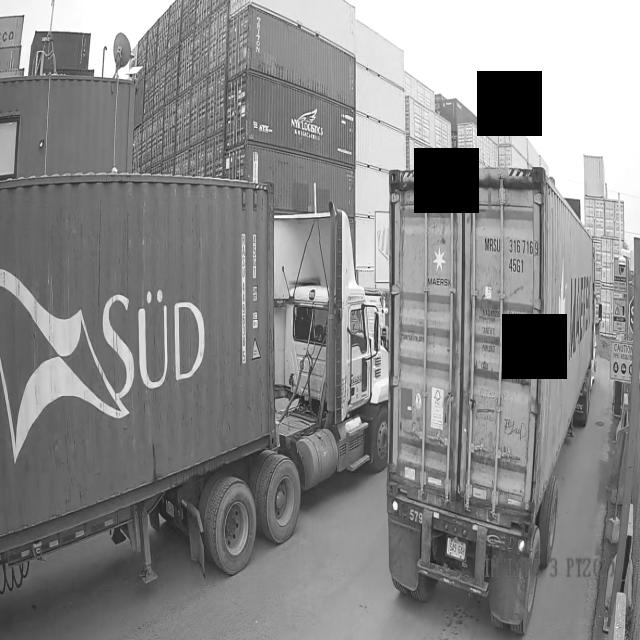container_company_logo: (0, 248, 219, 467), (420, 233, 453, 289)
container_number: (481, 228, 542, 278)
container_side_no: (236, 223, 252, 380)
license_plate: (442, 533, 471, 560)
truck_with_container: (0, 173, 387, 588), (386, 167, 601, 634)
